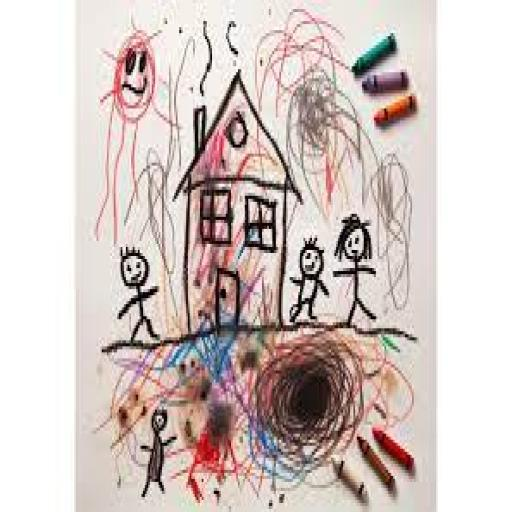person: (95, 28, 172, 243), (114, 238, 160, 352), (333, 214, 375, 328), (140, 407, 177, 499), (290, 238, 329, 322)
